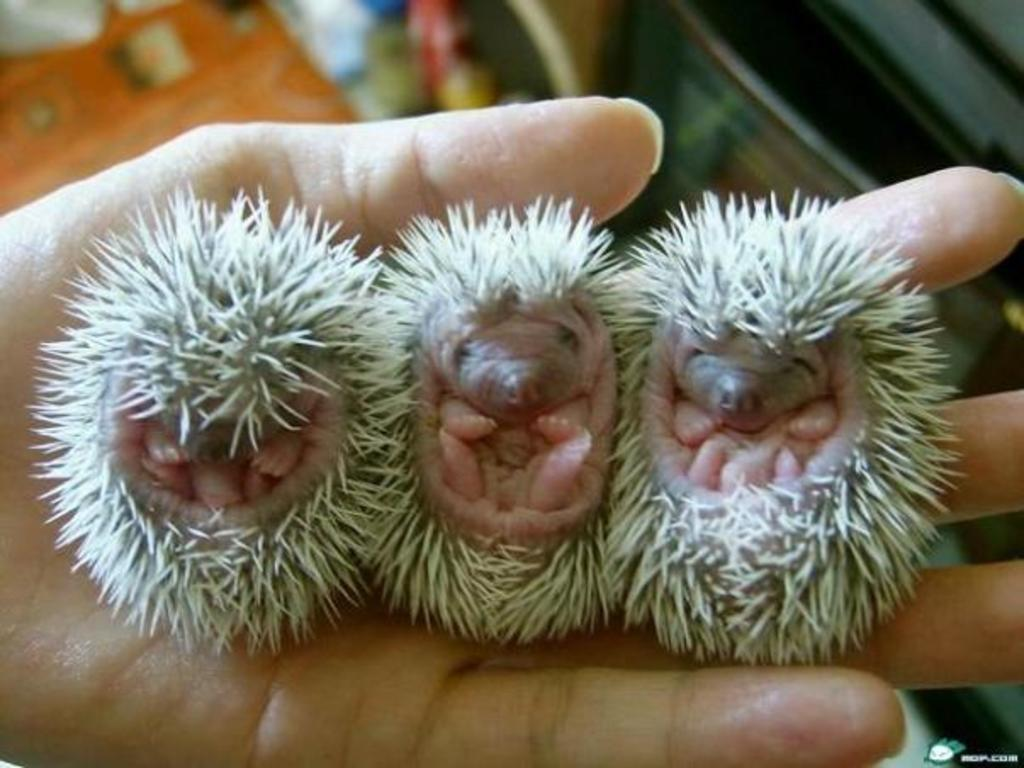Human_hand: (0, 95, 1024, 768)
